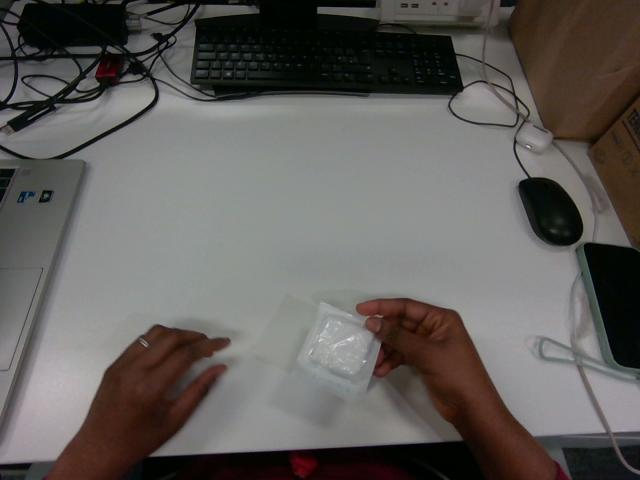gauze: (297, 303, 379, 400)
